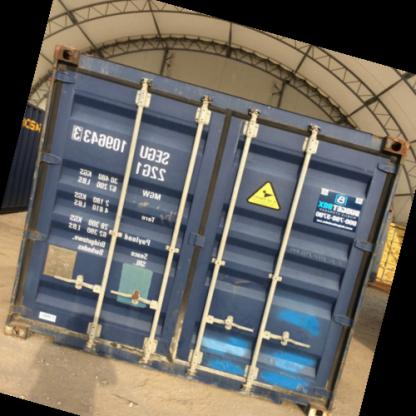Damage: (14, 312, 92, 348), (158, 309, 194, 370), (258, 372, 322, 402), (91, 325, 150, 354)
